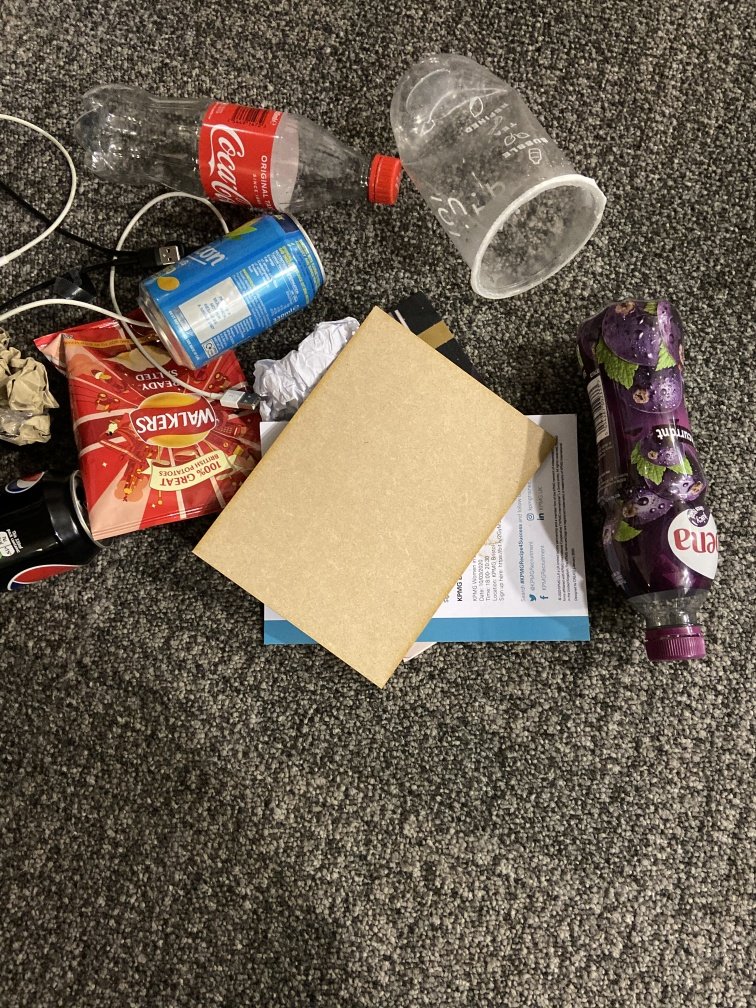bottle_purple: (572, 292, 734, 671)
bottle_red: (72, 79, 411, 219)
can_black: (1, 453, 108, 597)
can_blue: (137, 212, 328, 370)
paper_brown: (1, 319, 55, 452)
paper_white: (250, 313, 363, 414)
